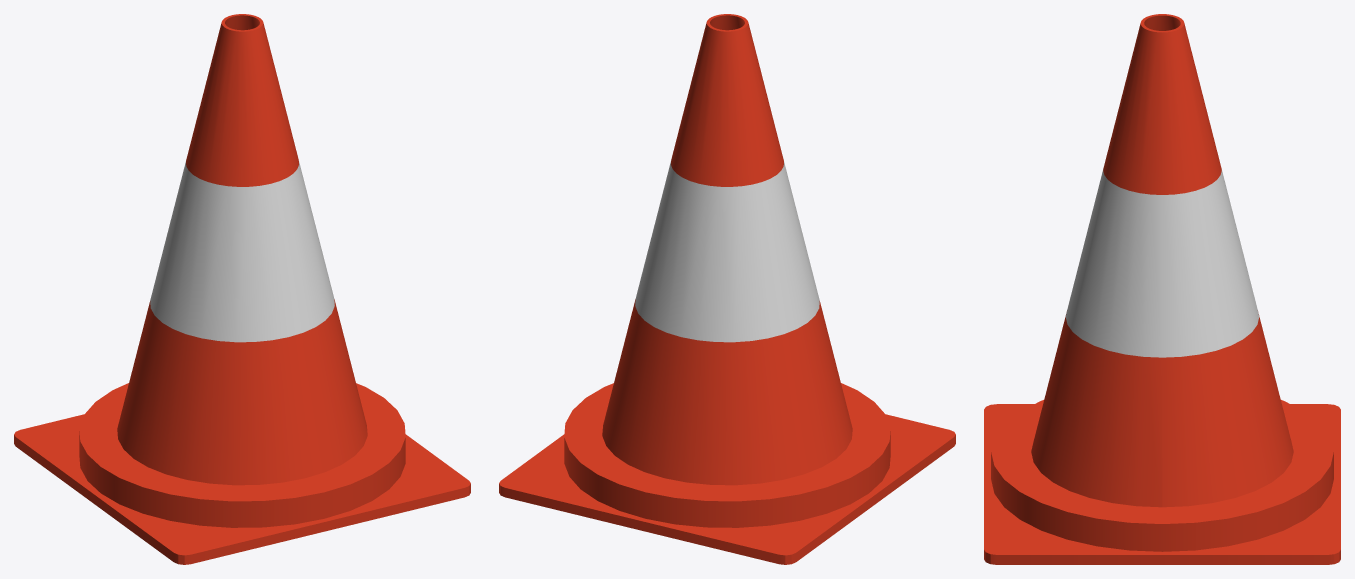
The model's file is SmallCone_orange.fbx.
3 renders of one model, left to right at view 1: azimuth 30°, elevation 25°; view 2: azimuth 150°, elevation 25°; view 3: azimuth 270°, elevation 25°, orthographic. The views are drawn at different scales.
Parts seen in each view (by area): view 1: Base; view 2: Base; view 3: Base.
Boxes of the visible parts, x1,y1,x2,y2 form: Base: (14, 14, 470, 564); Base: (499, 14, 955, 564); Base: (984, 14, 1340, 564).
Size of the model in its own units: 45.6 by 65.74 by 45.6.
